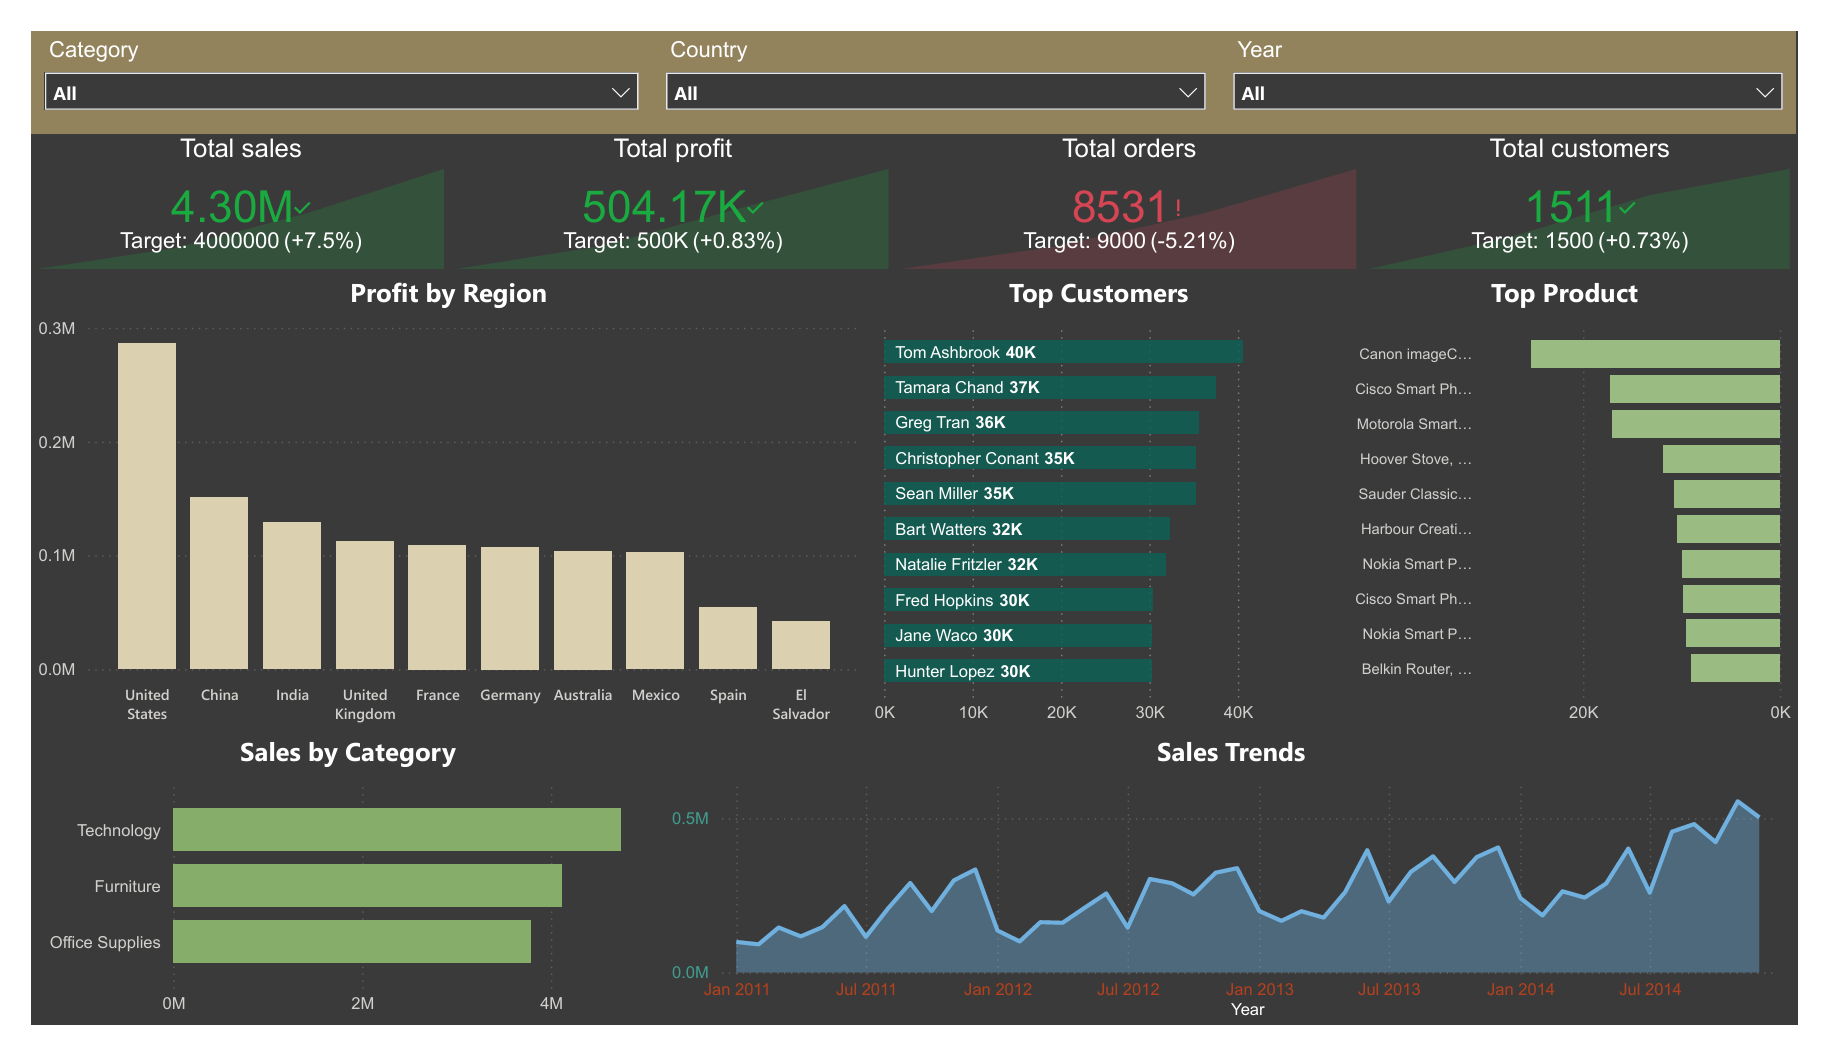

Layout of this report page (visuals, bound fields, positions):
{"tool":"powerbi","page":{"name":"Page 1","canvas":[1280,720],"ordinal":0},"visuals":[{"type":"barChart","title":"Sales by Category ","fields":{"Category":["Sheet1.Category"],"Y":["Sheet1.Total sales"]},"box":[0,509.5,459.1,211],"z":0},{"type":"barChart","title":"Top Customers","fields":{"Category":["Sheet1.Customer Name"],"Y":["Sum(Sheet1.Sales)"]},"box":[605,176.5,337,333],"z":1000},{"type":"areaChart","title":"Sales Trends","fields":{"Category":["Sheet1.Order Date.Variation.Date Hierarchy.Year","Sheet1.Order Date.Variation.Date Hierarchy.Month"],"Y":["Sum(Sheet1.Sales)"]},"box":[459.1,509.5,821.3,211],"z":2000},{"type":"clusteredBarChart","title":"Top Product","fields":{"Category":["Sheet1.Product Name"],"Y":["Sum(Sheet1.Profit)"]},"box":[942,176.5,338.3,333],"z":3000},{"type":"kpi","title":"Total sales ","fields":{"Indicator":["Sheet1.Total sales"],"Goal":["Sheet1.sales Target"],"TrendLine":["Sheet1.Order Date.Variation.Date Hierarchy.Year"]},"box":[0,74.4,303.8,102.6],"z":4000},{"type":"clusteredColumnChart","title":"Profit by Region","fields":{"Category":["Sheet1.Country"],"Y":["Sum(Sheet1.Profit)"]},"box":[0,176.5,605.4,333.4],"z":5000},{"type":"kpi","title":"Total orders ","fields":{"Indicator":["Sheet1.Total orders"],"TrendLine":["Sheet1.Order Date.Variation.Date Hierarchy.Year"],"Goal":["Sheet1.targetOrder"]},"box":[625.6,74.4,339.7,102.6],"z":6000},{"type":"kpi","title":"Total profit","fields":{"Indicator":["Sheet1.Total profit"],"TrendLine":["Sheet1.Order Date.Variation.Date Hierarchy.Year"],"Goal":["Sheet1.Target Profit"]},"box":[303.8,74.4,321.8,102.6],"z":7000},{"type":"kpi","title":"Total customers","fields":{"Indicator":["Sheet1.Total customers"],"TrendLine":["Sheet1.Order Date.Variation.Date Hierarchy.Year"],"Goal":["Sheet1.Target coustmer"]},"box":[965.4,74.4,314.1,102.6],"z":8000},{"type":"slicer","fields":{"Values":["Sheet1.Order Date.Variation.Date Hierarchy.Year"]},"box":[860.5,0,418.4,74.2],"z":9000},{"type":"slicer","fields":{"Values":["Sheet1.Country"]},"box":[450,0,410.5,74.2],"z":10000},{"type":"slicer","fields":{"Values":["Sheet1.Category"]},"box":[0,0,450,74.3],"z":11000}]}

Visuals, with their boxes in screenshot pixels (x1, y1, x2, y2), scaled from the page's 1280x720 canvas onto the 1828x1057 screenshot:
"Sales by Category " barChart: l=0, t=748, r=656, b=1056
"Top Customers" barChart: l=864, t=259, r=1345, b=748
"Sales Trends" areaChart: l=656, t=748, r=1827, b=1056
"Top Product" clusteredBarChart: l=1345, t=259, r=1827, b=748
"Total sales " kpi: l=0, t=109, r=434, b=260
"Profit by Region" clusteredColumnChart: l=0, t=259, r=865, b=749
"Total orders " kpi: l=893, t=109, r=1379, b=260
"Total profit" kpi: l=434, t=109, r=893, b=260
"Total customers" kpi: l=1379, t=109, r=1827, b=260
slicer - Sheet1.Order Date.Variation.Date Hierarchy.Year: l=1229, t=0, r=1826, b=109
slicer - Sheet1.Country: l=643, t=0, r=1229, b=109
slicer - Sheet1.Category: l=0, t=0, r=643, b=109
